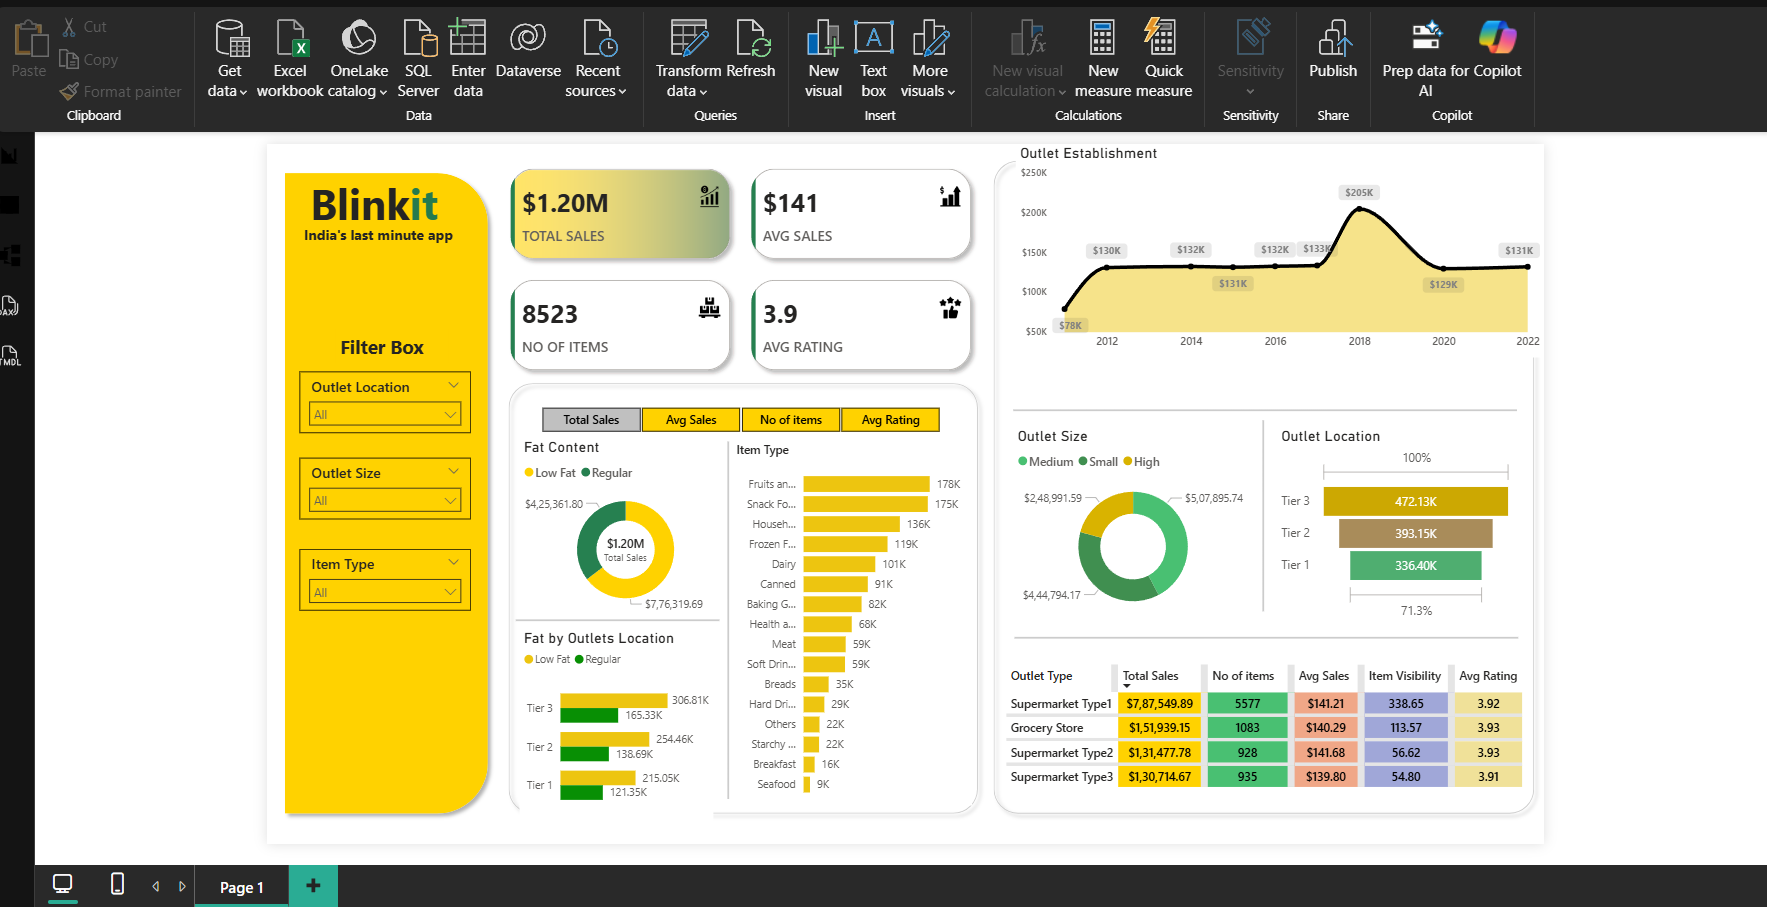

Layout of this report page (visuals, bound fields, positions):
{"tool":"powerbi","page":{"name":"Page 1","canvas":[1460,800],"ordinal":0},"visuals":[{"type":"shape","box":[11.4,24.3,250,750],"z":0},{"type":"textbox","box":[44.3,30,162.9,92.9],"z":1000},{"type":"textbox","box":[37.1,87.1,195.7,45.7],"z":2000},{"type":"cardVisual","fields":{"Data":["BlinkIT Grocery Data.Total Sales","BlinkIT Grocery Data.Avg Sales","BlinkIT Grocery Data.Total items Sold","BlinkIT Grocery Data.Avg Rating"]},"box":[261.4,11.4,560,264.3],"z":3000},{"type":"shape","box":[267.1,264.3,554.3,510],"z":4000},{"type":"donutChart","title":"Fat Content","fields":{"Y":["BlinkIT Grocery Data.Total Sales"],"Category":["BlinkIT Grocery Data.Item Fat Content"]},"box":[288.6,335.7,242.9,207.1],"z":5000},{"type":"slicer","fields":{"Values":["Metrics.Metrics"]},"box":[288.6,294.3,504.3,41.4],"z":6000},{"type":"cardVisual","fields":{"Data":["BlinkIT Grocery Data.Total Sales"]},"box":[365.7,424.3,88.6,77.1],"z":7000},{"type":"clusteredBarChart","title":"Fat by Outlets Location","fields":{"Y":["BlinkIT Grocery Data.Total Sales"],"Category":["BlinkIT Grocery Data.Outlet Location Type"],"Series":["BlinkIT Grocery Data.Item Fat Content"]},"box":[288.6,554.3,221.4,220],"z":8000},{"type":"shape","box":[284.3,534.3,232.9,20],"z":9000},{"type":"shape","box":[522.9,340,8.6,408.6],"z":10000},{"type":"barChart","title":"Item Type","fields":{"Y":["BlinkIT Grocery Data.Total Sales"],"Category":["BlinkIT Grocery Data.Item Type"]},"box":[531.4,340,274.3,415.7],"z":11000},{"type":"shape","box":[821.4,10,635.7,764.3],"z":12000},{"type":"lineChart","title":"Outlet Establishment","fields":{"Category":["BlinkIT Grocery Data.Outlet Establishment Year"],"Y":["BlinkIT Grocery Data.Total Sales"]},"box":[855.7,0,604.3,244.3],"z":13000},{"type":"shape","box":[852.9,294.3,575.7,20],"z":14000},{"type":"donutChart","title":"Outlet Size","fields":{"Y":["BlinkIT Grocery Data.Total Sales"],"Category":["BlinkIT Grocery Data.Outlet Size"]},"box":[852.9,322.9,274.3,225.7],"z":15000},{"type":"shape","box":[1135.7,315.7,5.7,218.6],"z":16000},{"type":"funnel","title":"Outlet Location","fields":{"Y":["BlinkIT Grocery Data.Total Sales"],"Category":["BlinkIT Grocery Data.Outlet Location Type"]},"box":[1154.3,322.9,274.3,225.7],"z":17000},{"type":"shape","box":[854.3,554.3,575.7,20],"z":18000},{"type":"pivotTable","fields":{"Rows":["BlinkIT Grocery Data.Outlet Type"],"Values":["BlinkIT Grocery Data.Total Sales","BlinkIT Grocery Data.No of items","BlinkIT Grocery Data.Avg Sales","Sum(BlinkIT Grocery Data.Item Visibility)","BlinkIT Grocery Data.Avg Rating"]},"box":[840,590,604.3,150],"z":19000},{"type":"slicer","fields":{"Values":["BlinkIT Grocery Data.Outlet Location Type"]},"box":[37.1,260,195.7,70],"z":19001},{"type":"slicer","fields":{"Values":["BlinkIT Grocery Data.Outlet Size"]},"box":[37.1,358.6,195.7,70],"z":19002},{"type":"slicer","fields":{"Values":["BlinkIT Grocery Data.Item Type"]},"box":[37.1,462.9,195.7,70],"z":19003},{"type":"textbox","box":[78.6,211.4,128.6,38.6],"z":19004}]}

Visuals, with their boxes on the page's 1460x800 design canvas (x1, y1, x2, y2). These are canvas units, not pixel positions in the 1767x907 screenshot, which may show the page scaled, cropped or inside an application window:
shape: (11,24,261,774)
textbox: (44,30,207,123)
textbox: (37,87,233,133)
cardVisual - BlinkIT Grocery Data.Total Sales x BlinkIT Grocery Data.Avg Sales: (261,11,821,276)
shape: (267,264,821,774)
"Fat Content" donutChart: (289,336,532,543)
slicer - Metrics.Metrics: (289,294,793,336)
cardVisual - BlinkIT Grocery Data.Total Sales: (366,424,454,501)
"Fat by Outlets Location" clusteredBarChart: (289,554,510,774)
shape: (284,534,517,554)
shape: (523,340,532,749)
"Item Type" barChart: (531,340,806,756)
shape: (821,10,1457,774)
"Outlet Establishment" lineChart: (856,0,1460,244)
shape: (853,294,1429,314)
"Outlet Size" donutChart: (853,323,1127,549)
shape: (1136,316,1141,534)
"Outlet Location" funnel: (1154,323,1429,549)
shape: (854,554,1430,574)
pivotTable - BlinkIT Grocery Data.Outlet Type x BlinkIT Grocery Data.Total Sales: (840,590,1444,740)
slicer - BlinkIT Grocery Data.Outlet Location Type: (37,260,233,330)
slicer - BlinkIT Grocery Data.Outlet Size: (37,359,233,429)
slicer - BlinkIT Grocery Data.Item Type: (37,463,233,533)
textbox: (79,211,207,250)
